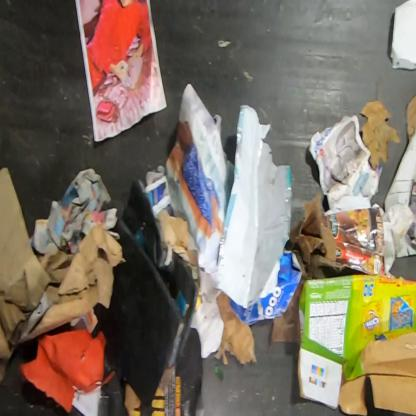cardboard: (0, 167, 123, 382), (297, 273, 415, 415), (291, 194, 414, 276), (213, 288, 256, 365)
soft_plastic: (216, 106, 292, 309)
